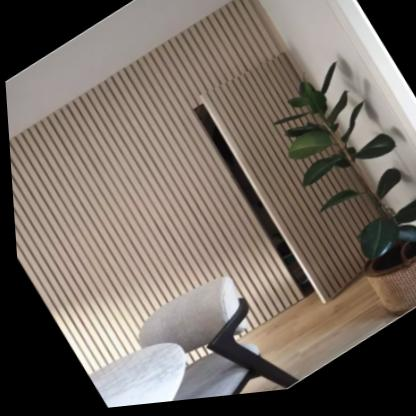Wall Panel: (0, 0, 397, 409)
